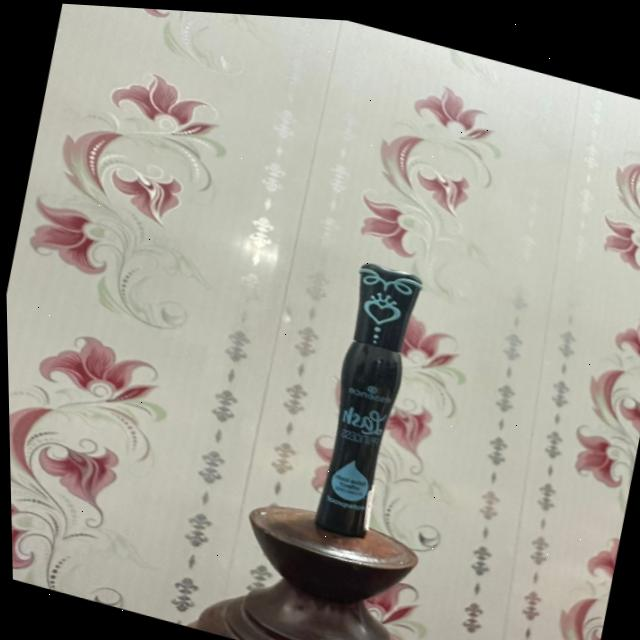mascara: (237, 221, 453, 567)
